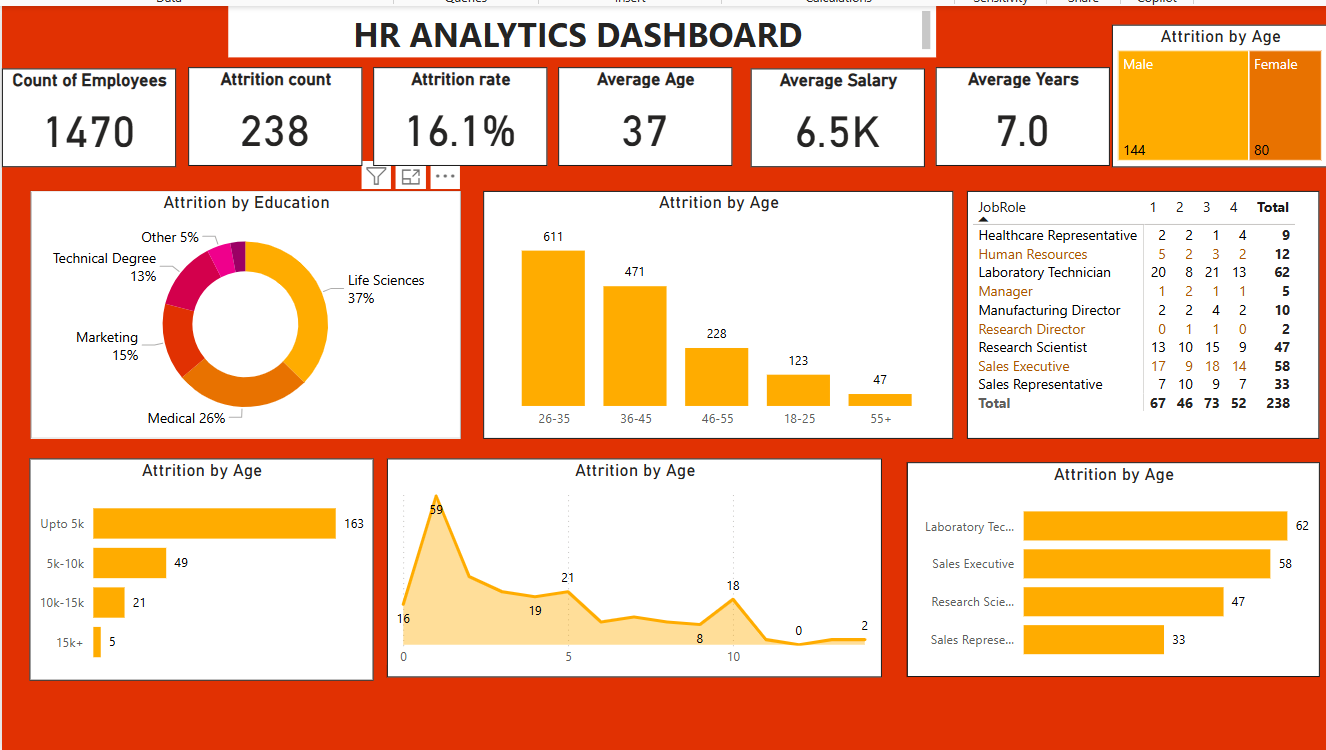

This screenshot's page, from the dashboard's own definition file:
{"tool":"powerbi","page":{"name":"Page 1","canvas":[1280,720],"ordinal":0},"visuals":[{"type":"card","title":"Count of Employees","fields":{"Values":["Count(HR_Analytics.EmpID)"]},"box":[0,60.3,167.7,95.3],"z":0},{"type":"donutChart","title":" Attrition by Education","fields":{"Category":["HR_Analytics.EducationField"],"Y":["Sum(HR_Analytics.Attrition Count)"]},"box":[27.7,178.6,415,238.9],"z":1000},{"type":"columnChart","title":" Attrition by Age","fields":{"Category":["HR_Analytics.AgeGroup"],"Y":["CountNonNull(HR_Analytics.Attrition Count)"]},"box":[464.5,178.6,453.6,238.9],"z":2000},{"type":"pivotTable","fields":{"Rows":["HR_Analytics.JobRole"],"Columns":["HR_Analytics.JobSatisfaction"],"Values":["Sum(HR_Analytics.Attrition Count)"]},"box":[931.4,178.6,340.2,238.9],"z":3000},{"type":"barChart","title":" Attrition by Age","fields":{"Category":["HR_Analytics.SalarySlab"],"Y":["Sum(HR_Analytics.Attrition Count)"]},"box":[26.5,436.7,331.8,214.7],"z":4000},{"type":"barChart","title":" Attrition by Age","fields":{"Category":["HR_Analytics.JobRole"],"Y":["Sum(HR_Analytics.Attrition Count)"]},"box":[873.5,440.4,398.1,207.5],"z":5000},{"type":"areaChart","title":" Attrition by Age","fields":{"Category":["HR_Analytics.YearsAtCompany"],"Y":["Sum(HR_Analytics.Attrition Count)"]},"box":[371.6,436.7,477.8,211.1],"z":6000},{"type":"treemap","title":" Attrition by Age","fields":{"Group":["HR_Analytics.Gender"],"Values":["Sum(HR_Analytics.Attrition Count)"]},"box":[1071.3,18.1,208.7,137.5],"z":7000},{"type":"card","title":"Attrition count","fields":{"Values":["Sum(HR_Analytics.Attrition Count)"]},"box":[179.8,59.1,167.7,95.3],"z":8000},{"type":"card","title":"Attrition  rate","fields":{"Values":["HR_Analytics.Attrition Rate"]},"box":[358.3,59.1,167.7,95.3],"z":9000},{"type":"card","title":"Average Age","fields":{"Values":["Avg(HR_Analytics.Age)"]},"box":[536.9,59.1,167.7,95.3],"z":10000},{"type":"card","title":"Average Salary","fields":{"Values":["Avg(HR_Analytics.MonthlyIncome)"]},"box":[722.7,60.3,167.7,95.3],"z":11000},{"type":"textbox","box":[209.9,0,672,42.2],"z":12000},{"type":"card","title":"Average Years","fields":{"Values":["Avg(HR_Analytics.YearsAtCompany)"]},"box":[901.2,59.1,167.7,95.3],"z":13000}]}

Visuals, with their boxes in screenshot pixels (x1, y1, x2, y2):
"Count of Employees" card: (x1=10, y1=69, x2=182, y2=166)
" Attrition by Education" donutChart: (x1=39, y1=189, x2=463, y2=433)
" Attrition by Age" columnChart: (x1=485, y1=189, x2=948, y2=433)
pivotTable - HR_Analytics.JobRole x HR_Analytics.JobSatisfaction: (x1=962, y1=189, x2=1309, y2=433)
" Attrition by Age" barChart: (x1=37, y1=453, x2=376, y2=672)
" Attrition by Age" barChart: (x1=903, y1=457, x2=1309, y2=669)
" Attrition by Age" areaChart: (x1=390, y1=453, x2=878, y2=669)
" Attrition by Age" treemap: (x1=1105, y1=25, x2=1318, y2=166)
"Attrition count" card: (x1=194, y1=67, x2=365, y2=165)
"Attrition  rate" card: (x1=376, y1=67, x2=548, y2=165)
"Average Age" card: (x1=559, y1=67, x2=730, y2=165)
"Average Salary" card: (x1=749, y1=69, x2=920, y2=166)
textbox: (x1=225, y1=7, x2=911, y2=50)
"Average Years" card: (x1=931, y1=67, x2=1102, y2=165)
